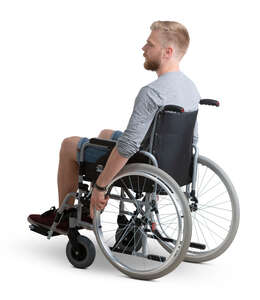wheelchair: (27, 20, 240, 280)
